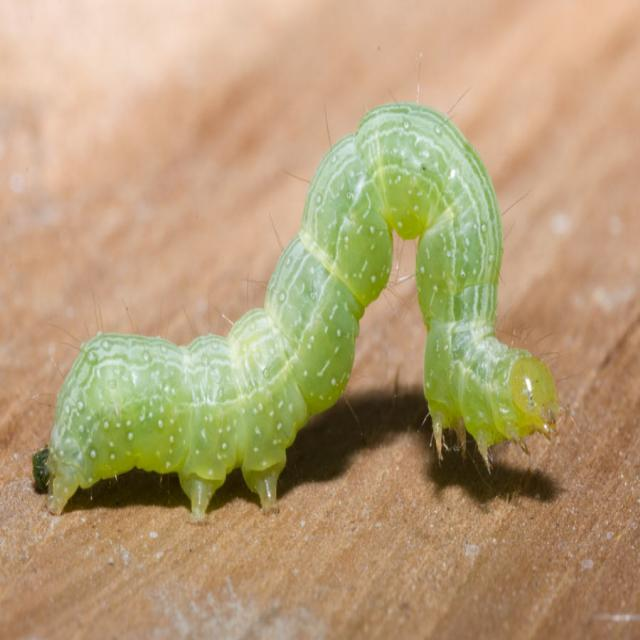looper: (18, 71, 570, 520)
